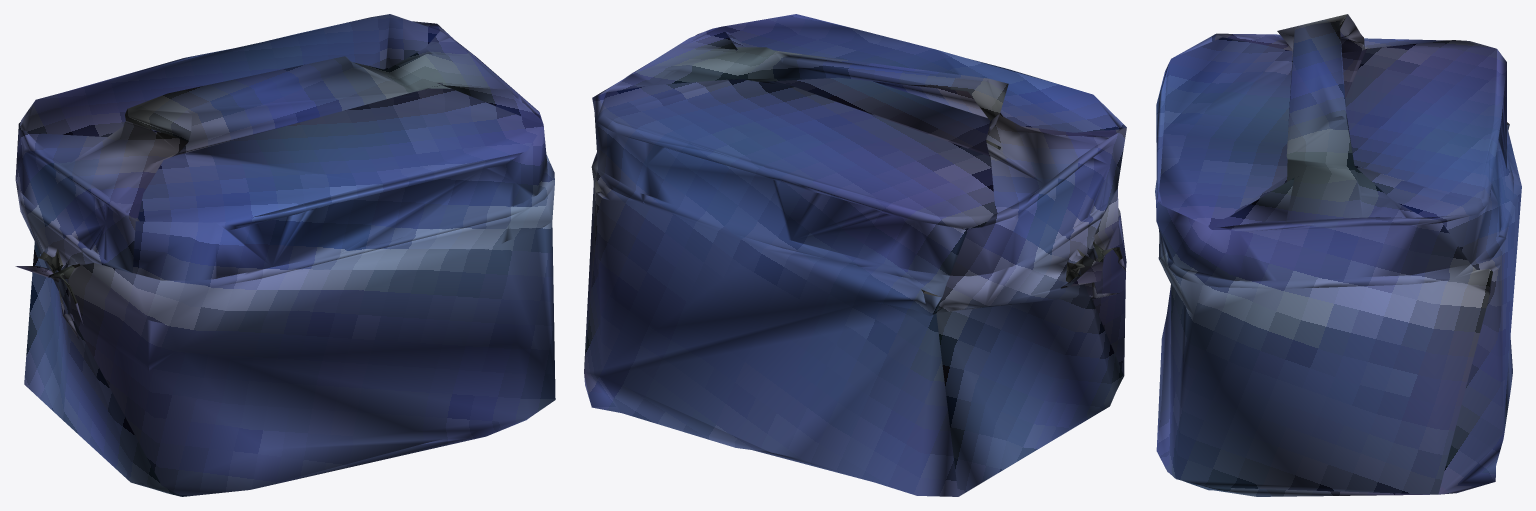
Rendered from Embark_Lunch_Cooler_Blue-low.glb.
The picture shows the model from 3 angles, left to right: view 1: azimuth 30°, elevation 25°; view 2: azimuth 150°, elevation 25°; view 3: azimuth 270°, elevation 25°; orthographic projection. The views are drawn at different scales.
Visible parts, largest first — view 1: Embark_Lunch_Cooler_Blue; view 2: Embark_Lunch_Cooler_Blue; view 3: Embark_Lunch_Cooler_Blue.
Part boxes in pixels (bbox=[...]): Embark_Lunch_Cooler_Blue: bbox=[15, 14, 555, 496]; Embark_Lunch_Cooler_Blue: bbox=[584, 14, 1126, 496]; Embark_Lunch_Cooler_Blue: bbox=[1155, 14, 1521, 496].
Bounding box in the file's own units: 0.2897 × 0.1914 × 0.1968.
1 material, 1 textured.
